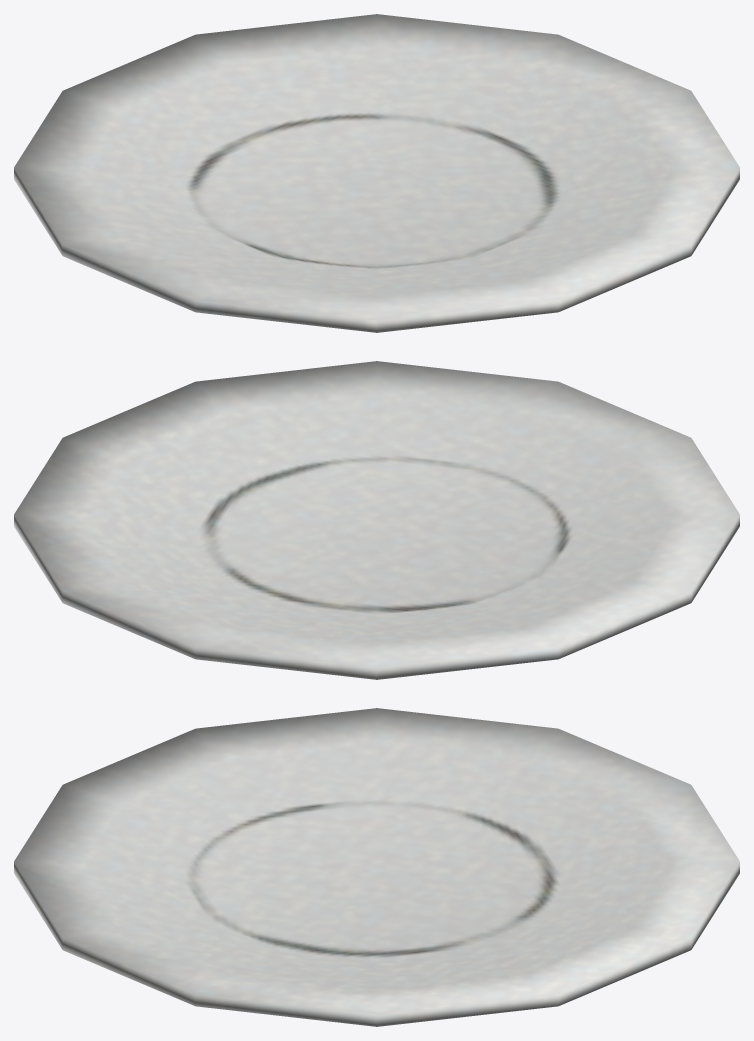
The model's file is clean_plate.obj.
3 views of the same model, one above another, from view 1: azimuth 30°, elevation 25°; view 2: azimuth 150°, elevation 25°; view 3: azimuth 270°, elevation 25° (orthographic).
Parts seen in each view (by area): view 1: clean_plate; view 2: clean_plate; view 3: clean_plate.
Part boxes in pixels (x1,y1,x2,y2): clean_plate: [14, 14, 739, 332]; clean_plate: [14, 361, 739, 679]; clean_plate: [14, 708, 739, 1026].
Size of the model in its own units: 0.3678 by 0.0217 by 0.3678.
